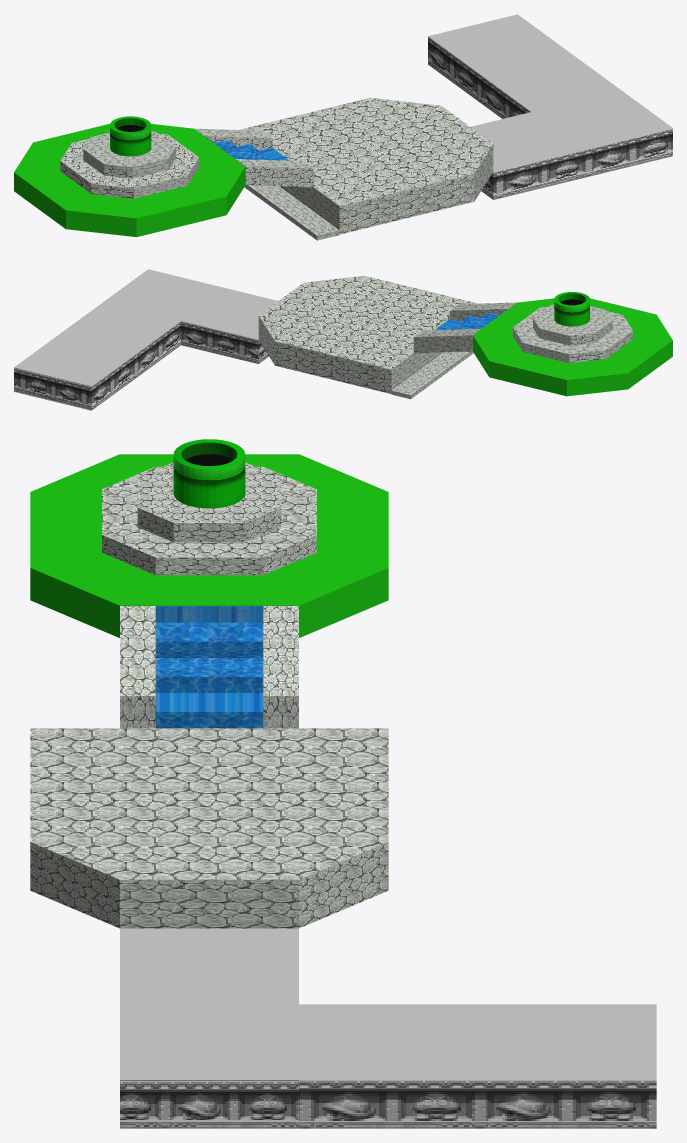
The model's file is bowser.obj.
The picture shows the model from 3 angles, top to bottom: view 1: azimuth 30°, elevation 25°; view 2: azimuth 150°, elevation 25°; view 3: azimuth 270°, elevation 25°; orthographic projection. The views are drawn at different scales.
Parts seen in each view (by area): view 1: Start, Cube, Second_floor, Third_floor, Fourth_floor.001, Plane, Stairs_right, Cylinder, Stairs_left, Stairs; view 2: Start, Cube, Second_floor, Third_floor, Fourth_floor.001, Plane, Stairs_left, Cylinder, Stairs_right, Stairs; view 3: Start, Cube, Second_floor, Stairs, Third_floor, Fourth_floor.001, Cylinder, Stairs_left, Stairs_right.
Boxes of the visible parts, bbox=[...] form: Start: bbox=[428, 14, 672, 199]; Cube: bbox=[239, 97, 493, 234]; Second_floor: bbox=[14, 124, 245, 237]; Third_floor: bbox=[60, 133, 199, 198]; Fourth_floor.001: bbox=[83, 131, 175, 178]; Plane: bbox=[244, 185, 339, 240]; Stairs_right: bbox=[235, 159, 313, 187]; Cylinder: bbox=[110, 116, 151, 156]; Stairs_left: bbox=[194, 128, 272, 150]; Stairs: bbox=[204, 136, 289, 160]; Start: bbox=[14, 269, 277, 410]; Cube: bbox=[258, 275, 477, 393]; Second_floor: bbox=[473, 298, 672, 396]; Third_floor: bbox=[513, 307, 632, 363]; Fourth_floor.001: bbox=[533, 304, 612, 345]; Plane: bbox=[391, 351, 473, 399]; Stairs_left: bbox=[413, 328, 481, 353]; Cylinder: bbox=[554, 292, 589, 326]; Stairs_right: bbox=[449, 302, 517, 321]; Stairs: bbox=[435, 309, 508, 329]; Start: bbox=[120, 928, 656, 1128]; Cube: bbox=[30, 728, 388, 928]; Second_floor: bbox=[30, 454, 388, 637]; Stairs: bbox=[155, 606, 263, 728]; Third_floor: bbox=[102, 466, 316, 575]; Fourth_floor.001: bbox=[137, 462, 281, 542]; Cylinder: bbox=[173, 439, 245, 508]; Stairs_left: bbox=[263, 606, 298, 728]; Stairs_right: bbox=[120, 606, 155, 728].
Bounding box in the file's own units: 6.76 × 1.47 × 3.5.
Materials: 7 (4 with a texture image).
